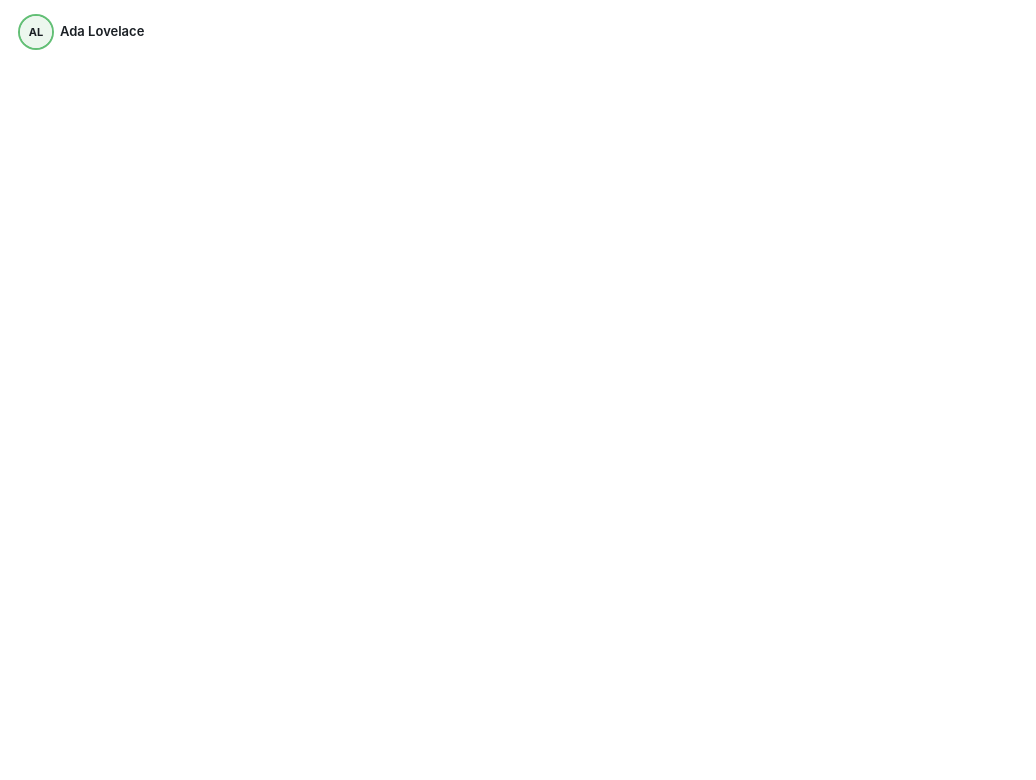
UserInfo › dismisses the card on Escape, on an outside click, and on a second click
The width and height of the screenshot is (1036, 780).
Step 1. Click the button with class "user-info" → (82, 32), box [12,12,152,52]
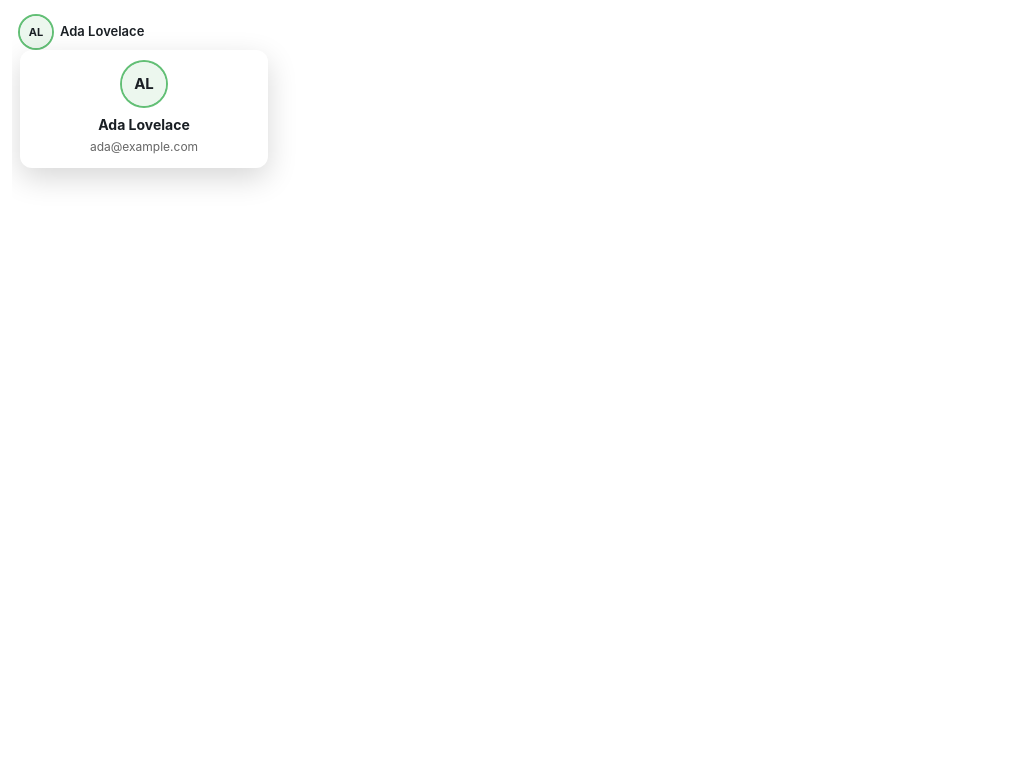
Result: the tooltip "AL Ada Lovelace ada@example.com" is shown at [20,50,268,168]
Step 2. Press Escape
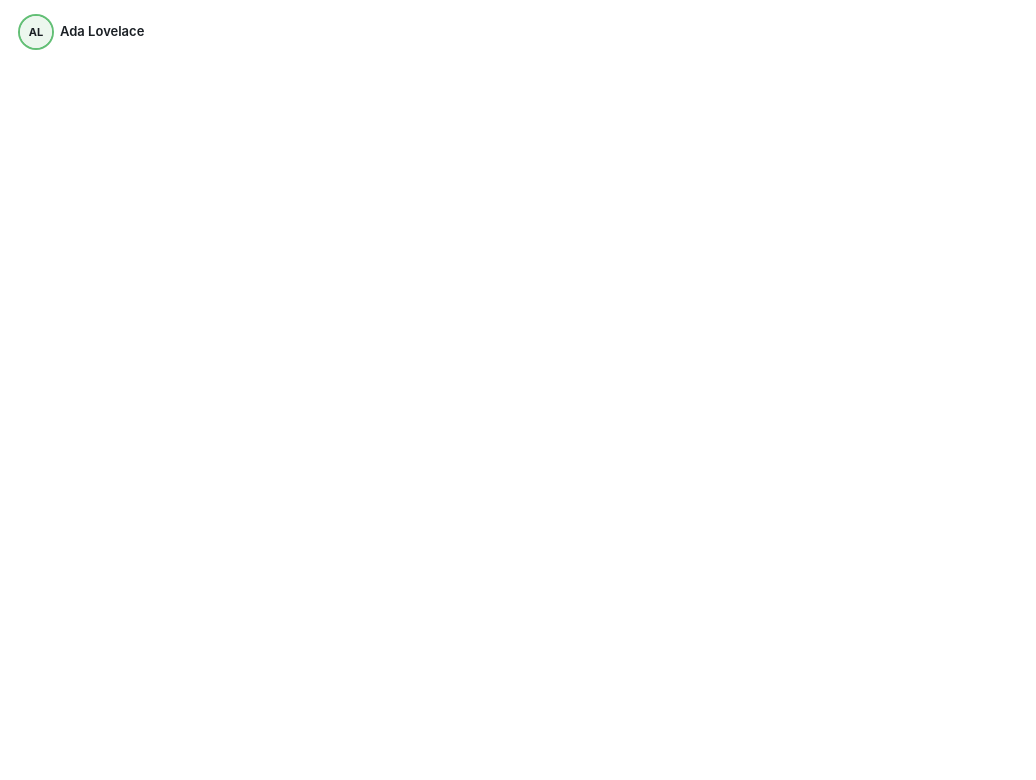
Result: the tooltip "AL Ada Lovelace ada@example.com" is gone
Step 3. Click the button with class "user-info" → (82, 32), box [12,12,152,52]
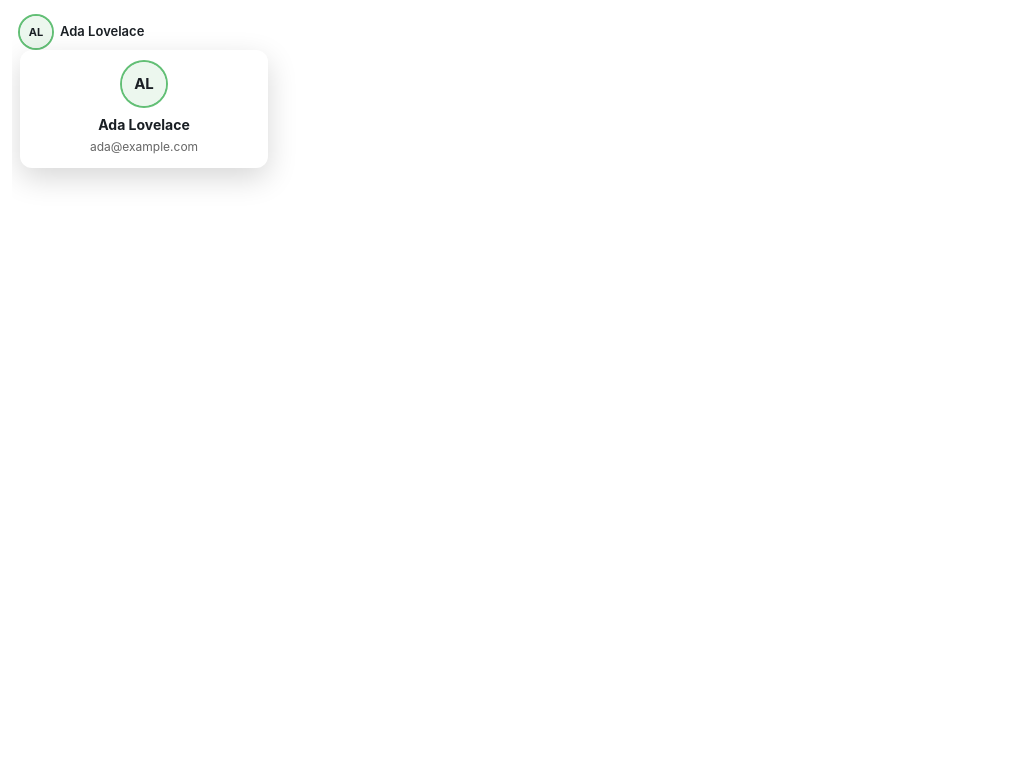
Result: the tooltip "AL Ada Lovelace ada@example.com" is shown at [20,50,268,168]
Step 4. Press the mouse on the element showing "AL Ada Lovelace AL Ada Lovelace ada@example.com" → (524, 396), box [12,12,1035,779]
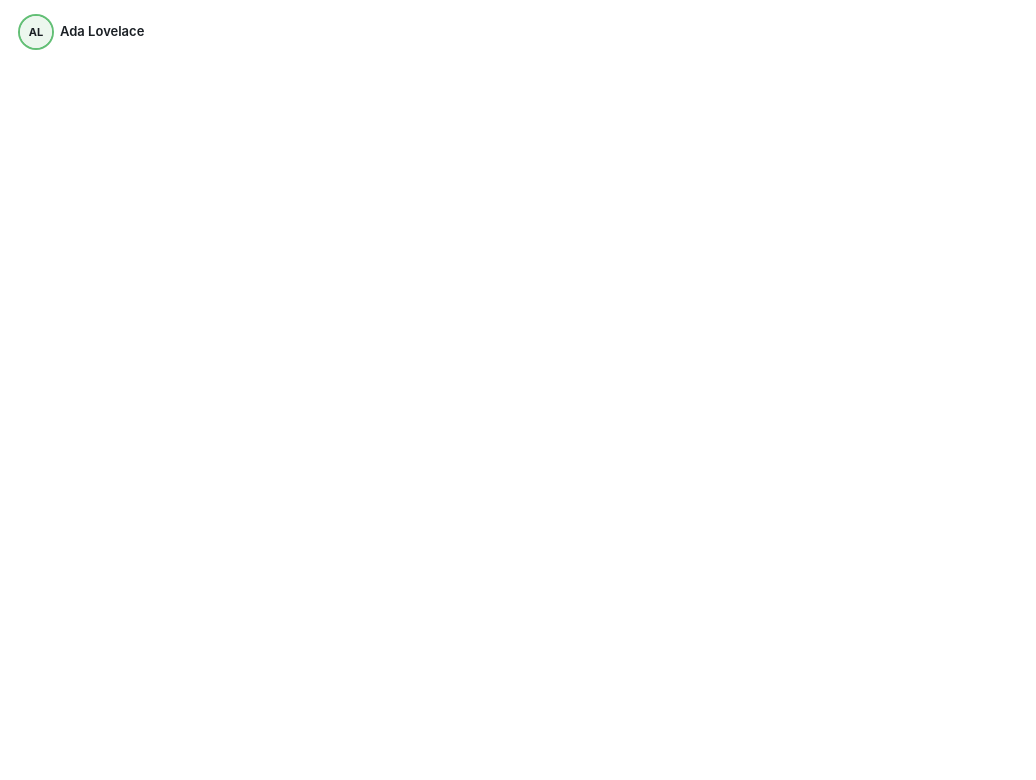
Result: the tooltip "AL Ada Lovelace ada@example.com" is gone
Step 5. Click the button with class "user-info" → (82, 32), box [12,12,152,52]
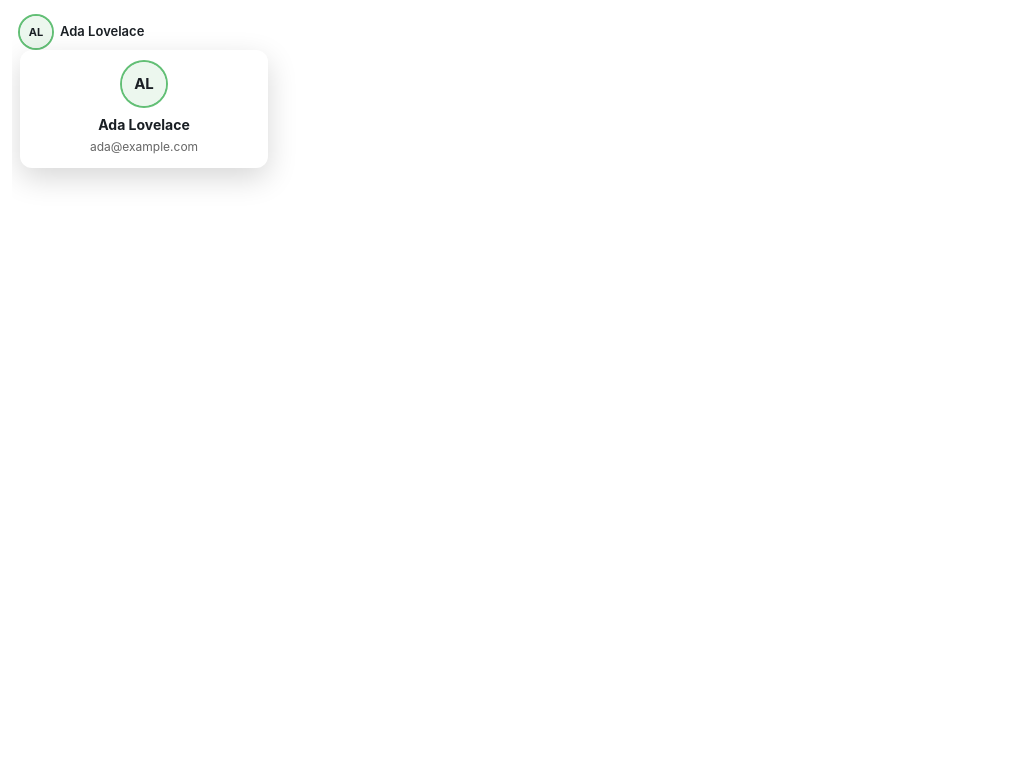
Result: the tooltip "AL Ada Lovelace ada@example.com" is shown at [20,50,268,168]
Step 6. Click the button with class "user-info" → (82, 32), box [12,12,152,52]
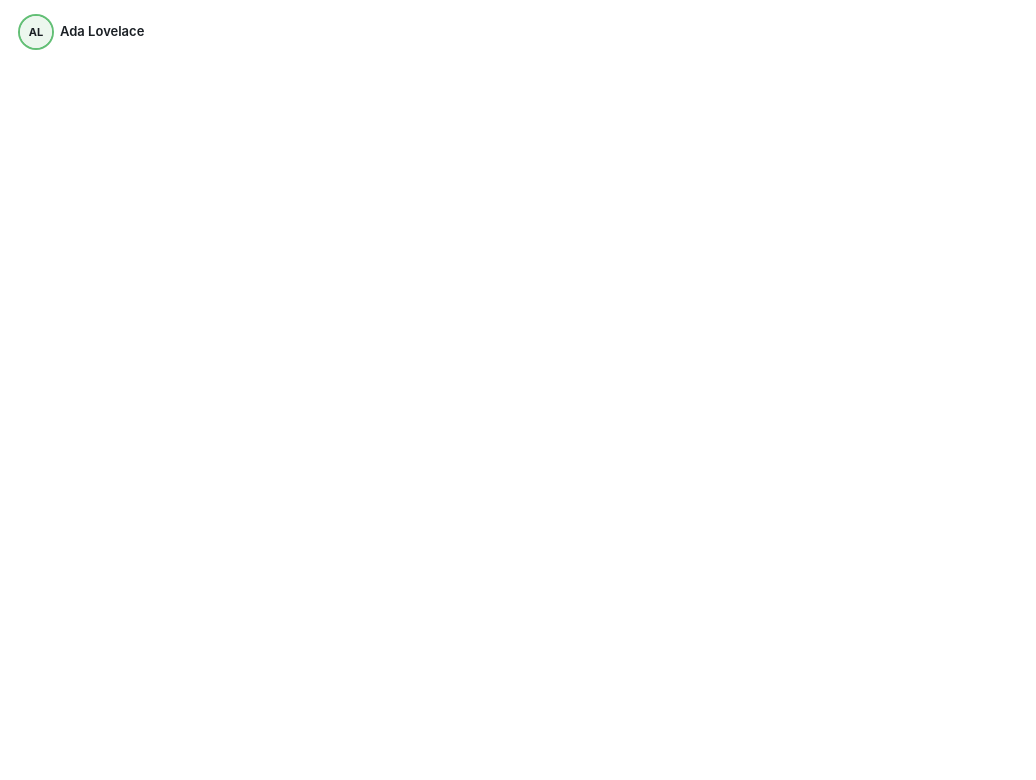
Result: the tooltip "AL Ada Lovelace ada@example.com" is gone
